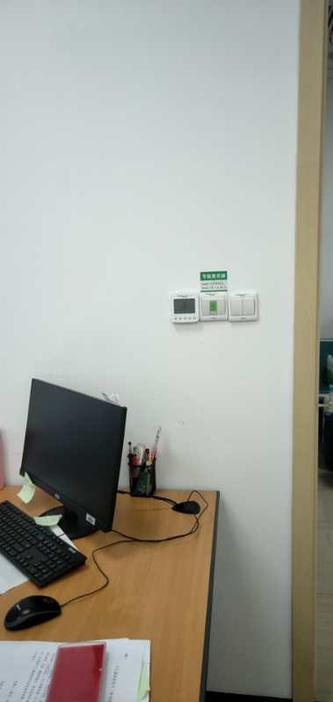switch: (236, 297, 259, 322), (199, 301, 229, 316)
